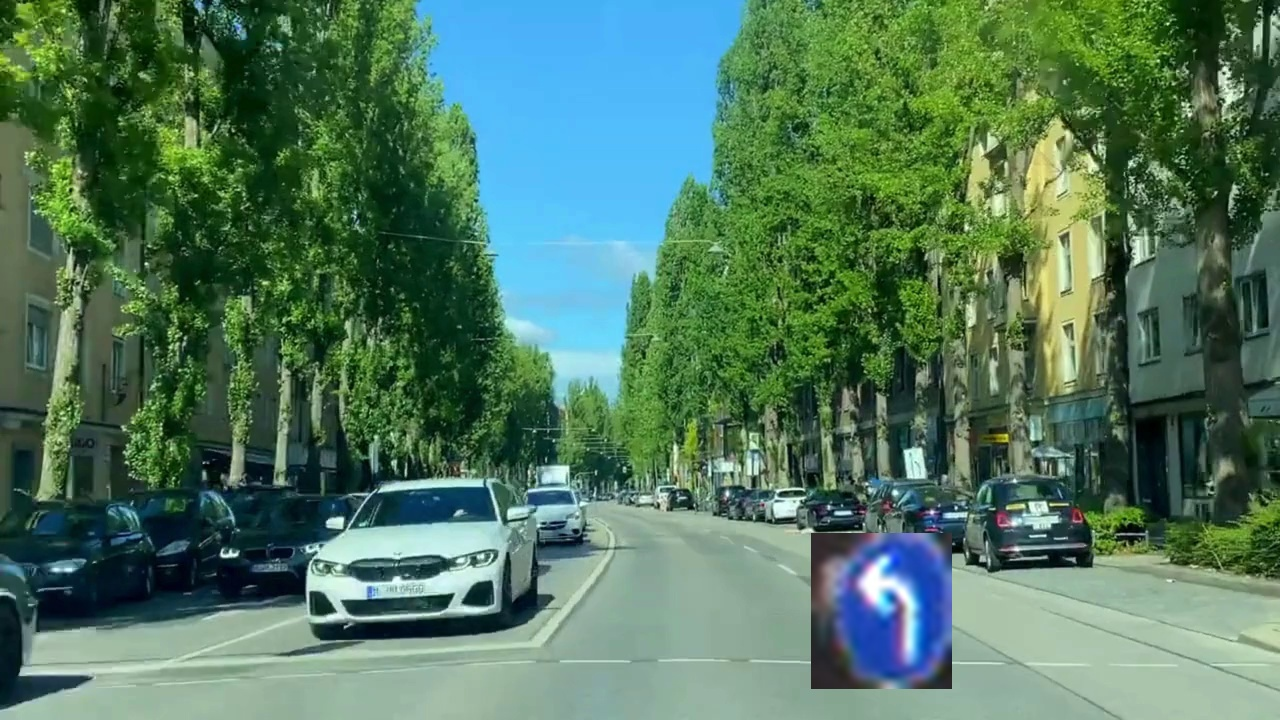Turn left: (811, 533, 952, 689)
